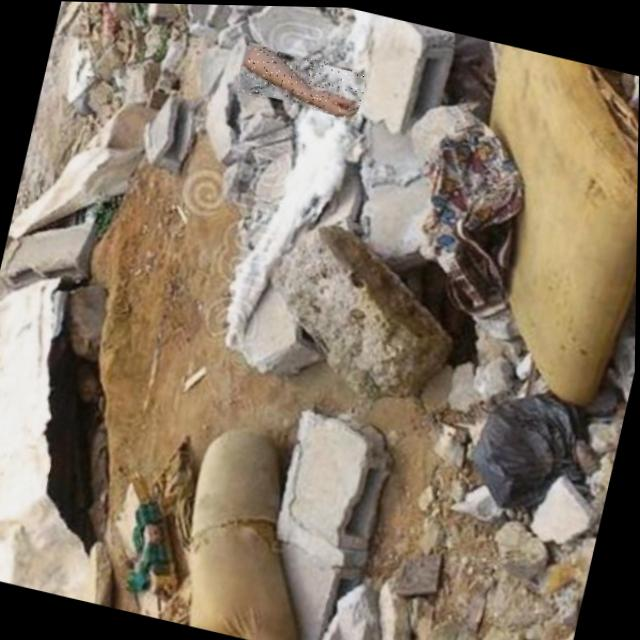Person in Rubble: (235, 41, 369, 118)
